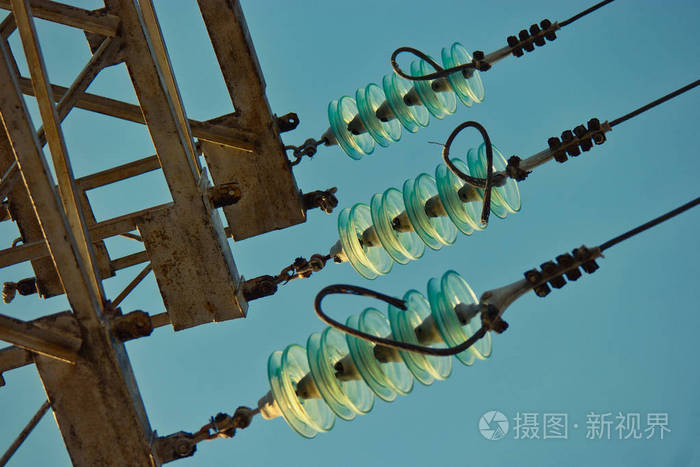insulator: (267, 266, 488, 439), (341, 144, 524, 277), (326, 45, 478, 158)
